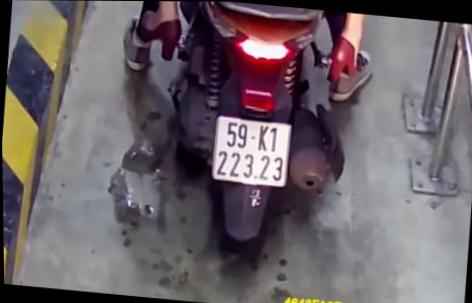LP: (208, 112, 295, 190)
